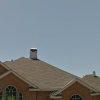Chimney: (23, 39, 41, 66)
